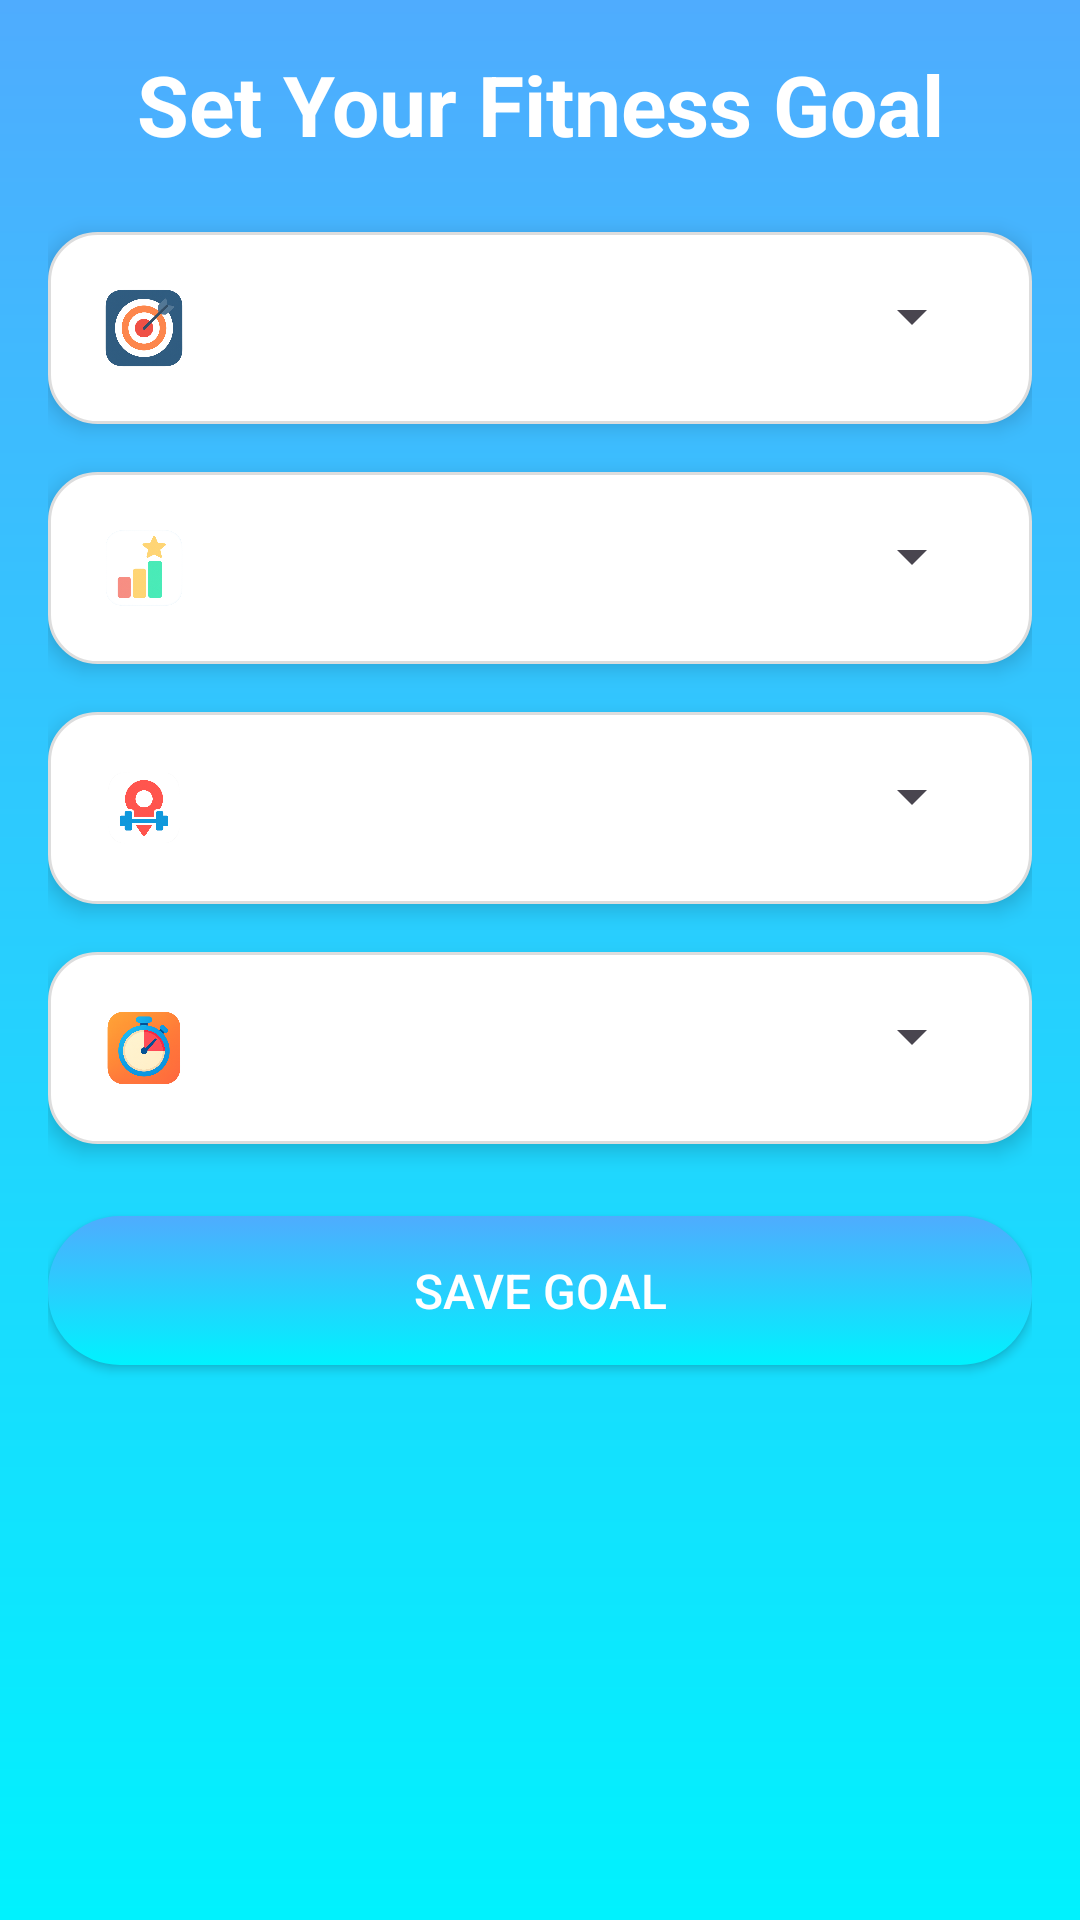

Named icons in this screenshot (1080w x 1920h) and their bounding boxes, bbox=[x1, y1, x2, y2]:
level: bbox=[118, 536, 166, 598]
location: bbox=[120, 780, 168, 836]
time: bbox=[107, 1012, 180, 1084]
